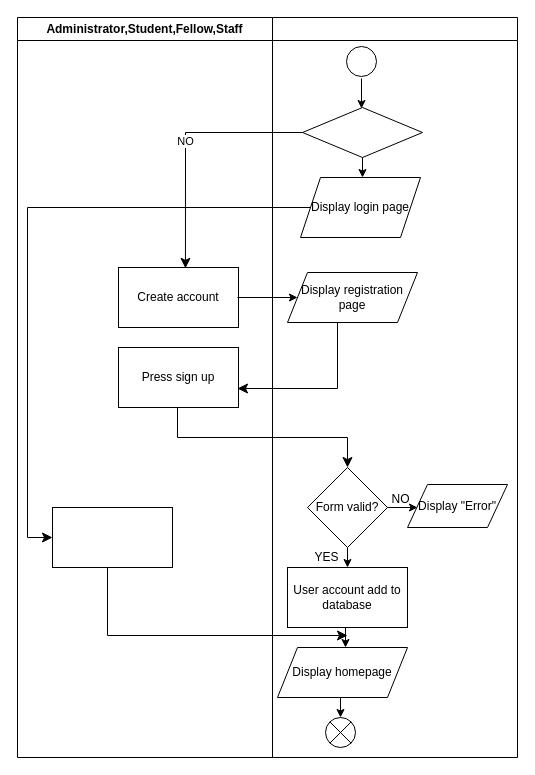
This 535x775 diagram has some shape labels left out. Each missing label, with the box of its shape:
Have an account?: (302, 106, 422, 158)
System: (272, 16, 518, 758)
User fill in ID and paasword: (52, 506, 172, 568)
